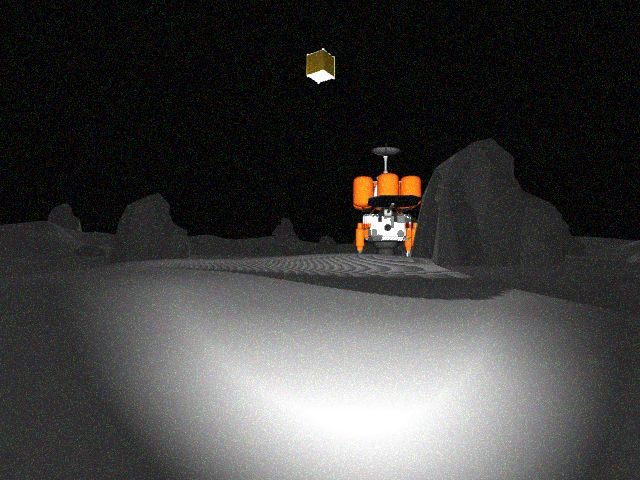cubesat: (299, 45, 340, 88)
